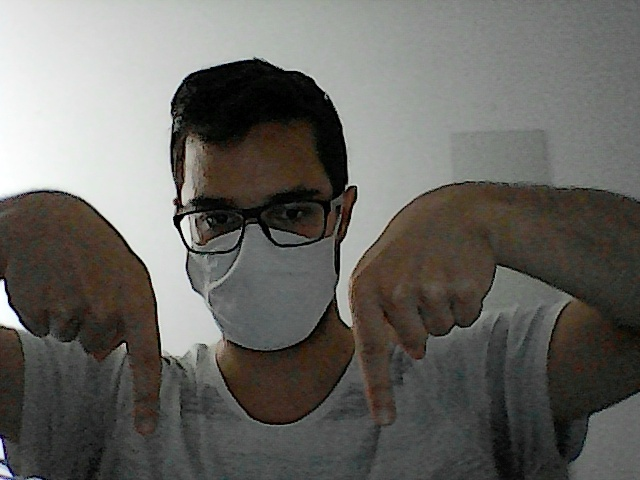down: (345, 161, 509, 439), (3, 183, 172, 446)
